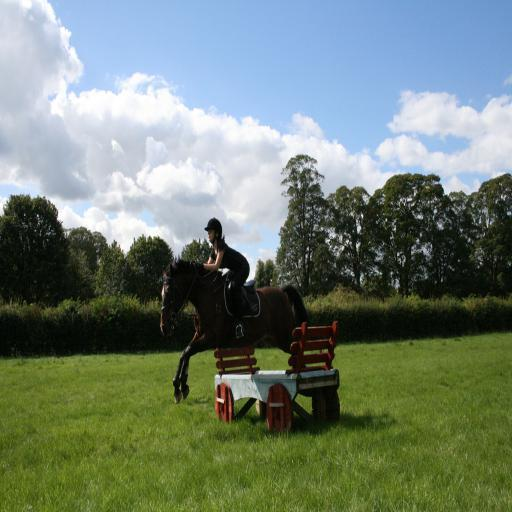horse: (159, 258, 309, 404)
